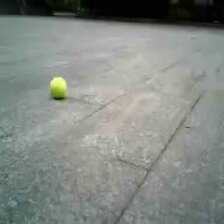tennis: (50, 78, 66, 97)
